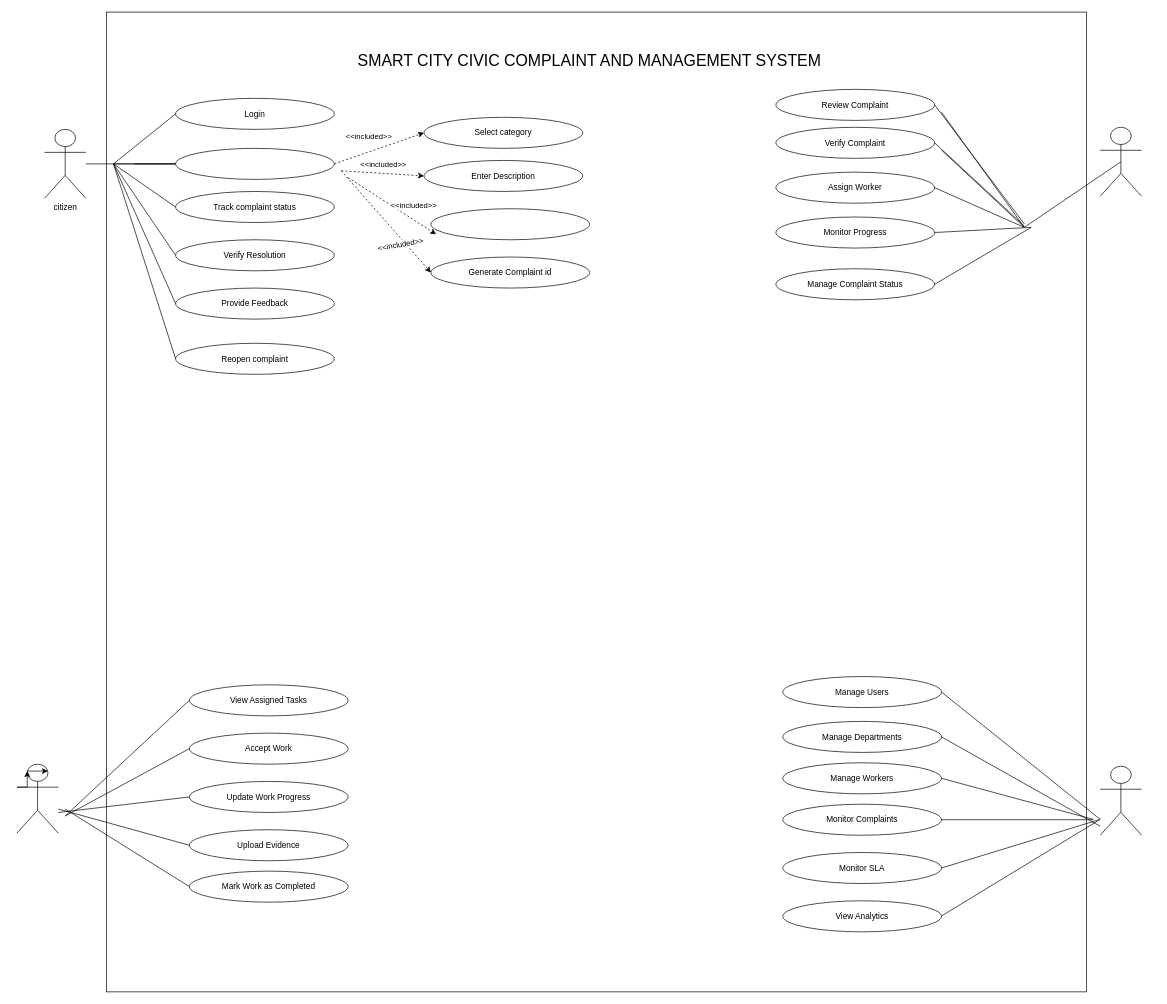
Image size: 1167x1004. Some labels were removed from this diagram. Each missing label, with the box of its shape:
Administrator: (1100, 766, 1142, 835)
Department Officer: (1100, 127, 1142, 196)
Field Worker: (16, 763, 58, 833)
Provide Location: (430, 208, 590, 240)
Submit complaint: (175, 148, 334, 179)
